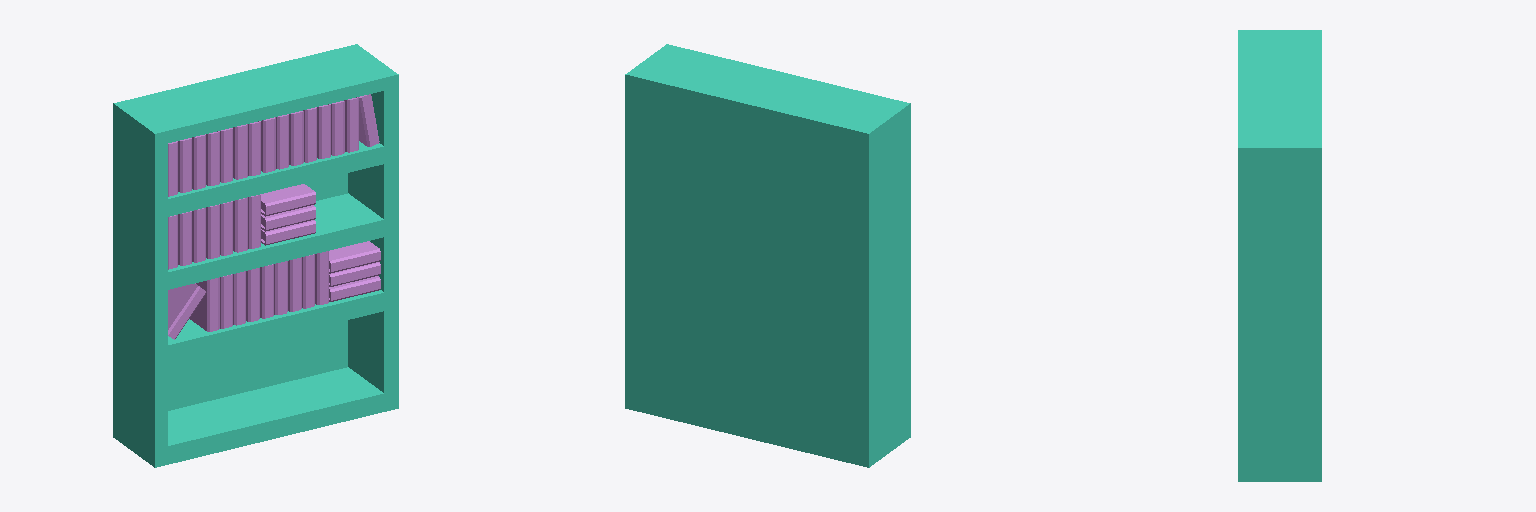
The model's file is BookShelf.obj.
3 views of the same model, side by side, from view 1: azimuth 30°, elevation 25°; view 2: azimuth 150°, elevation 25°; view 3: azimuth 270°, elevation 25° (orthographic).
Parts seen in each view (by area): view 1: BookSelf, BookTopShelf1, BookMid2Shelf, BookMidShelf; view 2: BookSelf; view 3: BookSelf.
Boxes of the visible parts, <box> form: BookSelf: <box>113,44,398,467</box>; BookTopShelf1: <box>168,94,379,196</box>; BookMid2Shelf: <box>168,241,380,339</box>; BookMidShelf: <box>168,184,315,269</box>; BookSelf: <box>625,44,910,467</box>; BookSelf: <box>1238,30,1321,481</box>.
Bounding box in the file's own units: 277 × 364 × 82.2.